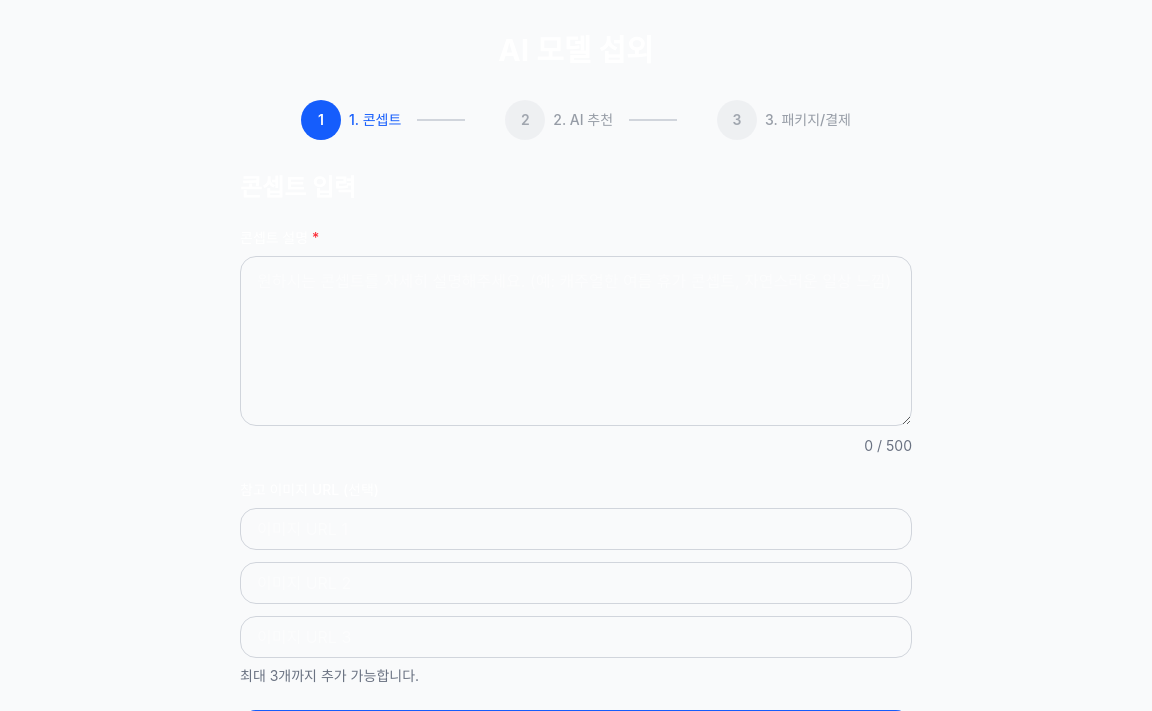
Test: BookingWizard › Test 5-6: 패키지 선택 및 금액 업데이트 › displays package options
# Navigate to Step 3
Type "테스트 콘셉트" into the text box with placeholder "원하시는 콘셉트를 자세히 설명해주세요. (예: 캐주얼한 여름 휴가 콘셉트, 자연스러운 일상 느낌)" at (576, 341), box left=240, top=256, right=912, bottom=426
(page scrolled)
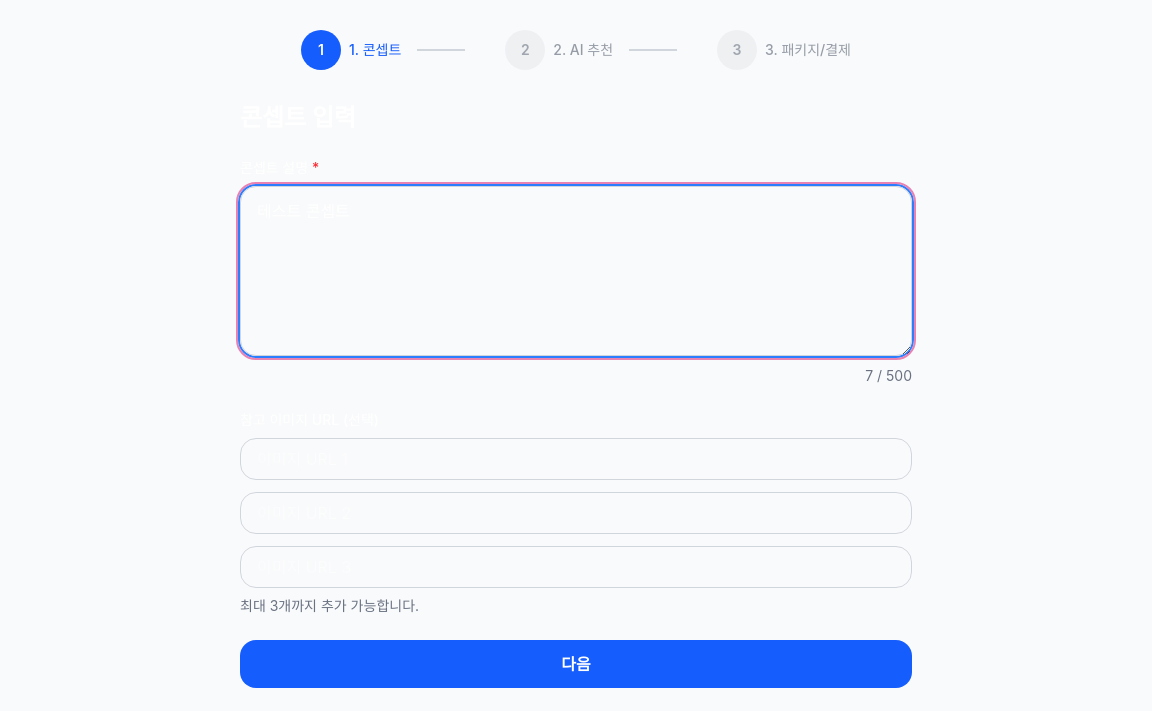
Click the button "다음" at (576, 664), box left=240, top=640, right=912, bottom=688
(page scrolled)
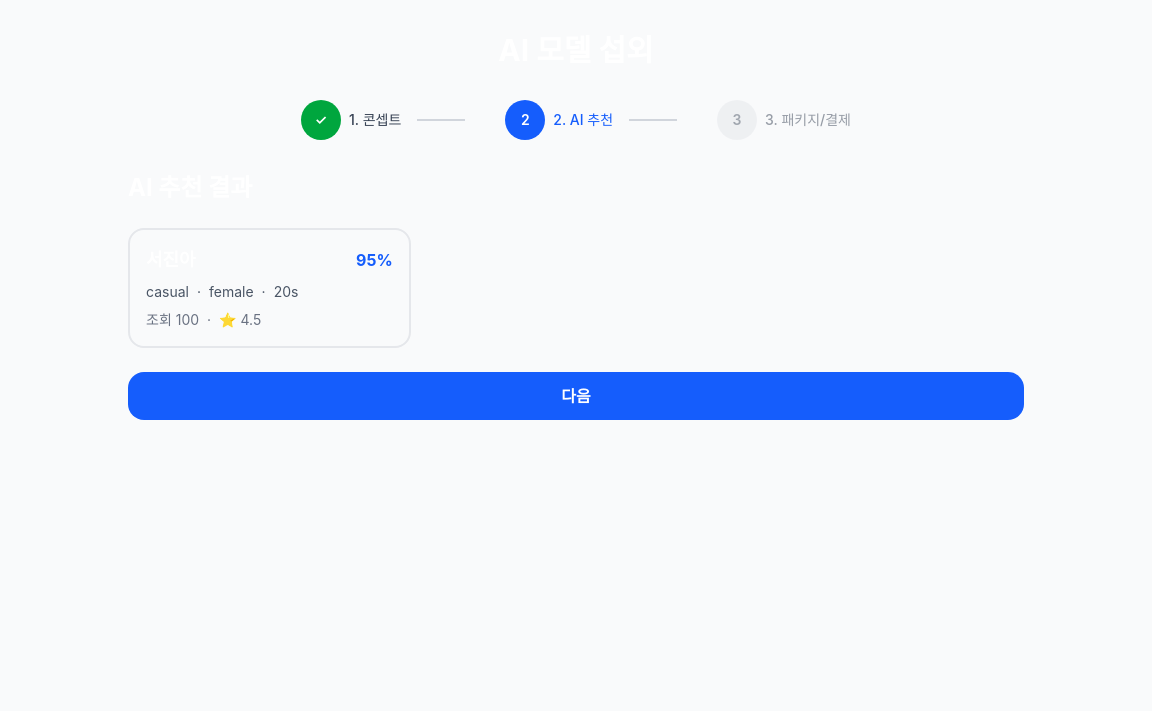
Click the radio button labelled "서진아 95% casual · female · 20s 조회 100 · ⭐ 4.5" at (171, 260), box left=128, top=228, right=411, bottom=348
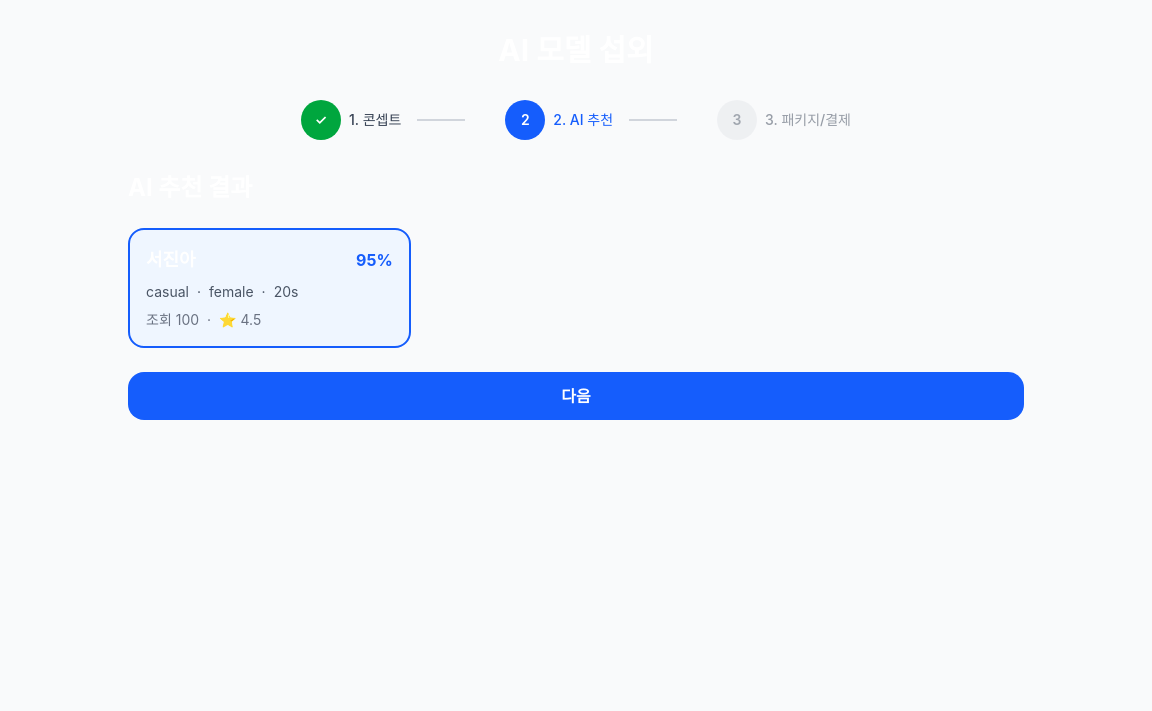
Click the button "다음" at (576, 396), box left=128, top=372, right=1024, bottom=420
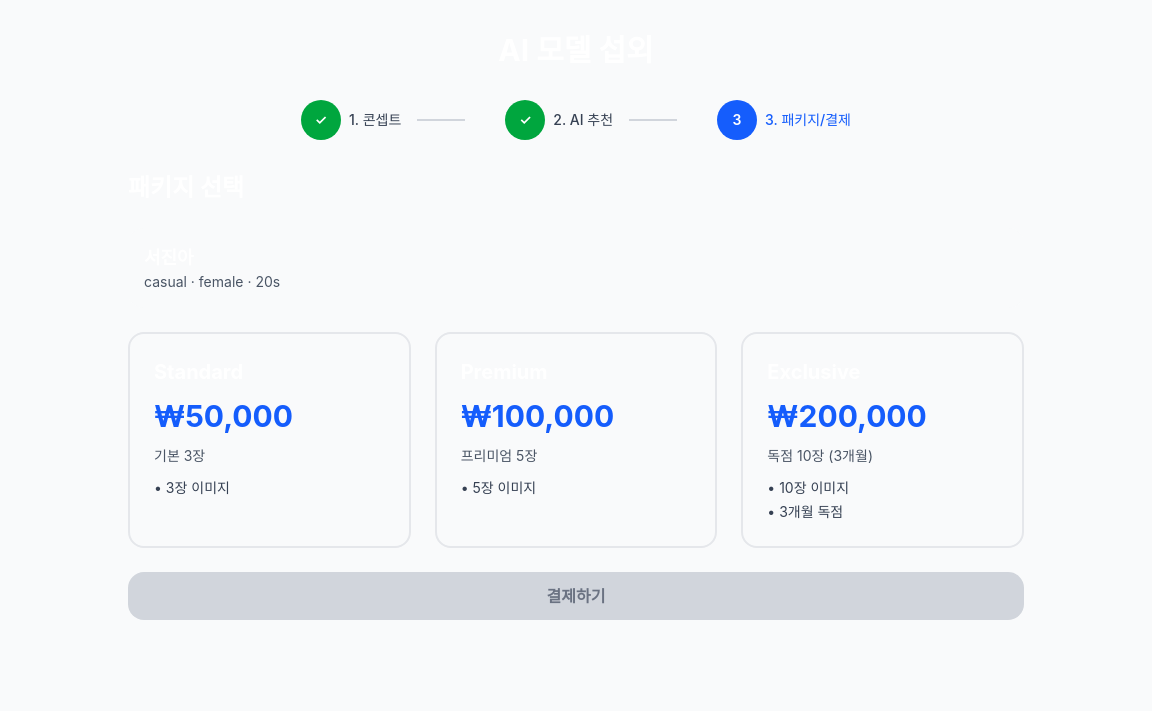
Now the text "₩50,000" is shown, box left=154, top=398, right=293, bottom=434
Now the text "₩100,000" is shown, box left=461, top=398, right=614, bottom=434
Now the text "₩200,000" is shown, box left=767, top=398, right=927, bottom=434
